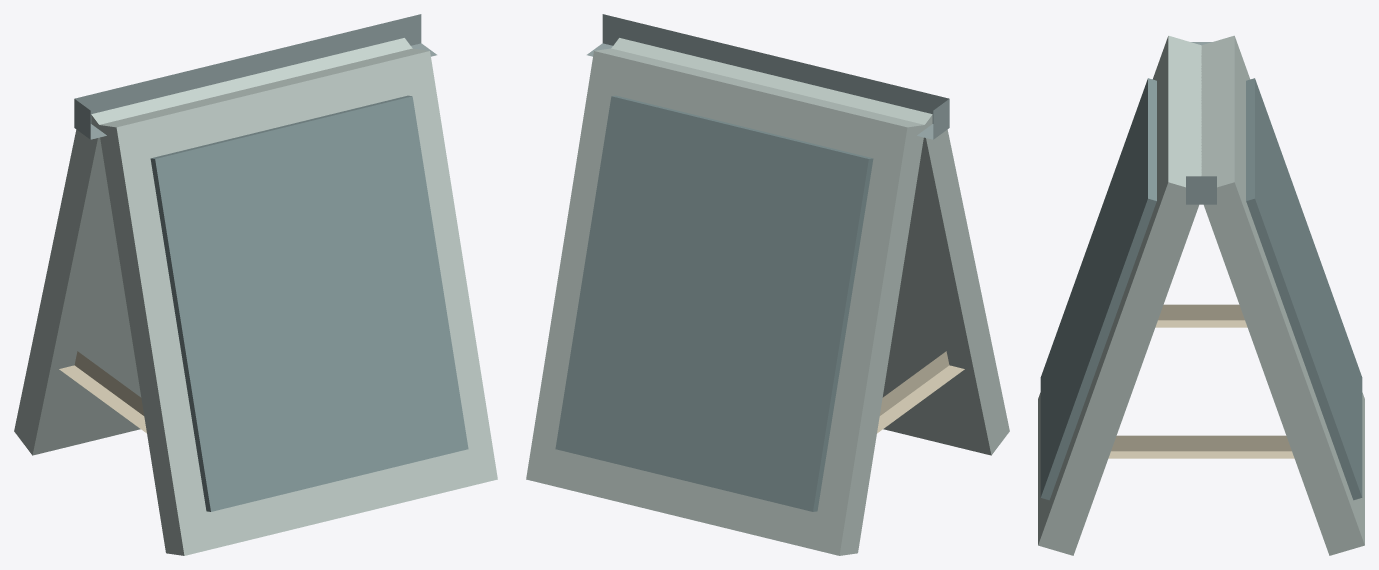
File: aframe.glb
3 views of the same model, side by side, from view 1: azimuth 30°, elevation 25°; view 2: azimuth 150°, elevation 25°; view 3: azimuth 270°, elevation 25° (orthographic). The views are drawn at different scales.
Parts seen in each view (by area): view 1: Blank A frame sign; view 2: Blank A frame sign; view 3: Blank A frame sign.
Boxes of the visible parts, x1=… form: Blank A frame sign: x1=14, y1=14, x2=497, y2=555; Blank A frame sign: x1=526, y1=14, x2=1009, y2=555; Blank A frame sign: x1=1038, y1=35, x2=1364, y2=555.
Size of the model in its own units: 0.62 by 0.6896 by 0.5272.
